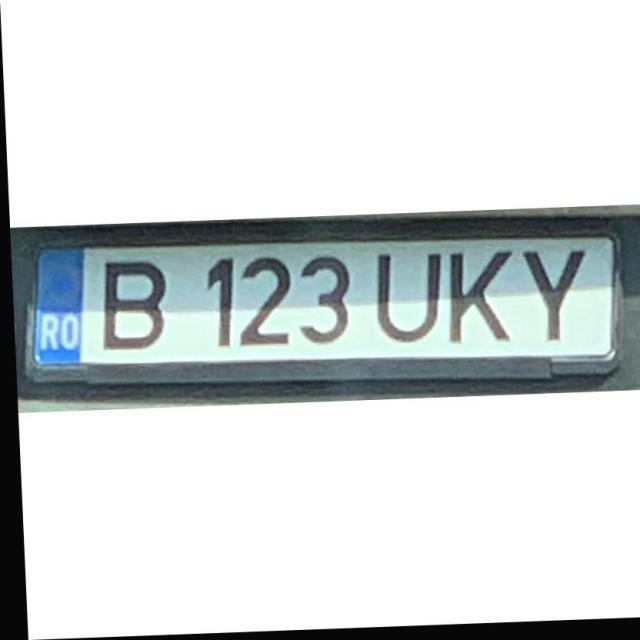license-plates: (30, 238, 617, 379)
